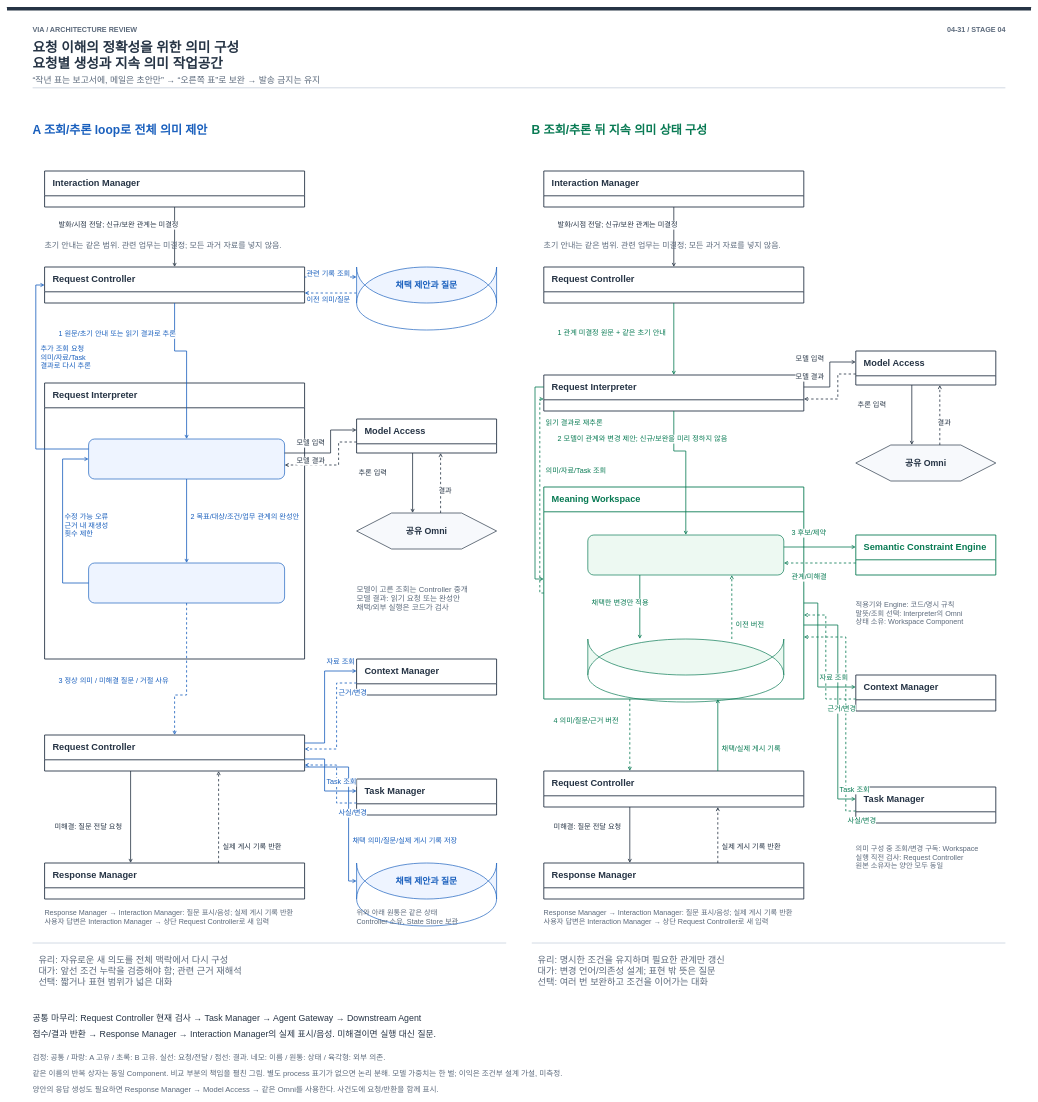
Image size: 1038x1102. Some labels were removed from this diagram. The shapes that lost their labels are listed below. From the top down, each one's centre as x and y in pixels, then its label:
At pixel 186 458: "전체 의미 생성기".
At pixel 685 554: "의미 변경 적용기".
At pixel 186 582: "대상과 조건 검증기".
At pixel 685 656: "채택 의미와 질문".
